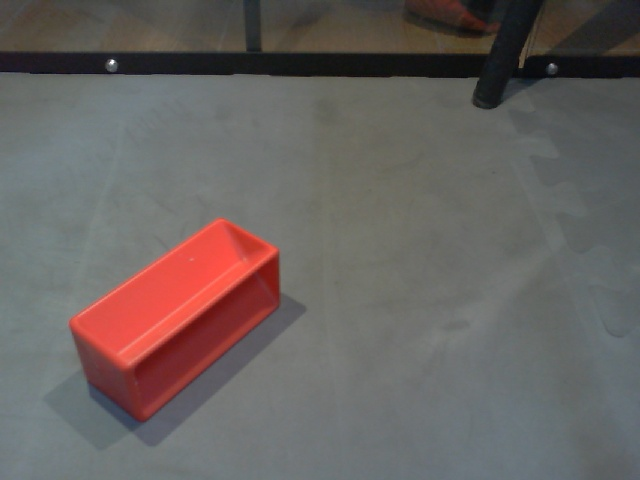RedSample: (68, 215, 285, 428)
